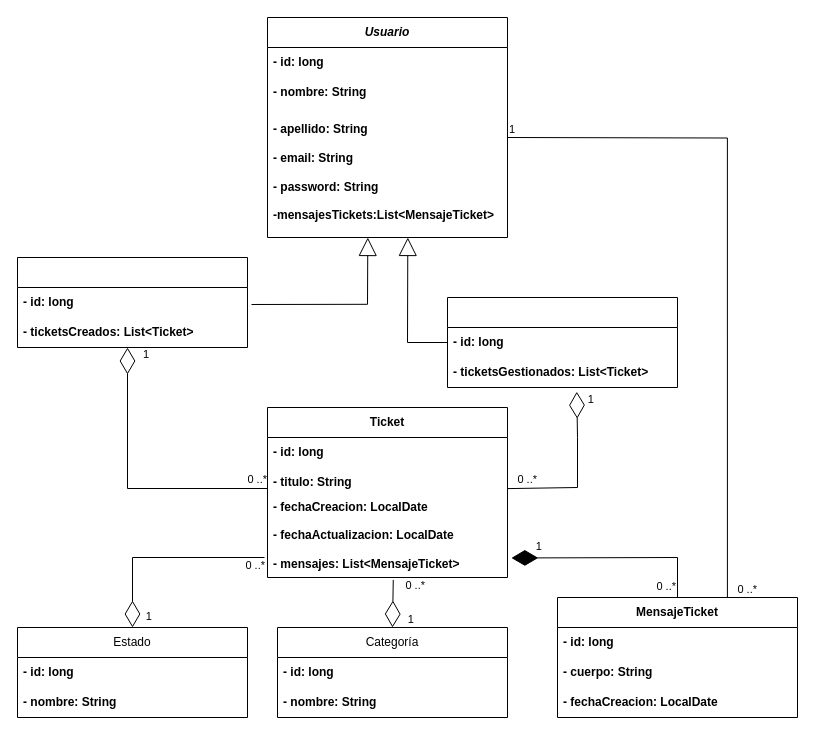
This 815x735 diagram has some shape labels left out. Each missing label, with the box of its shape:
Cliente: (16, 256, 248, 348)
Empleado: (446, 296, 678, 388)
